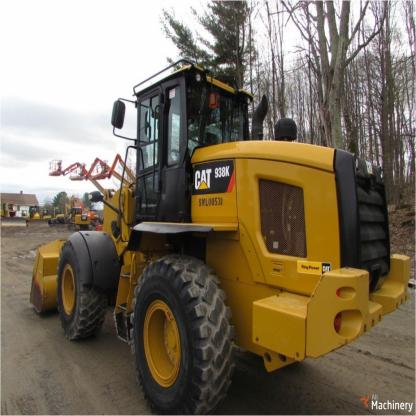bull_dozer/loader/grader: (22, 56, 408, 410)
